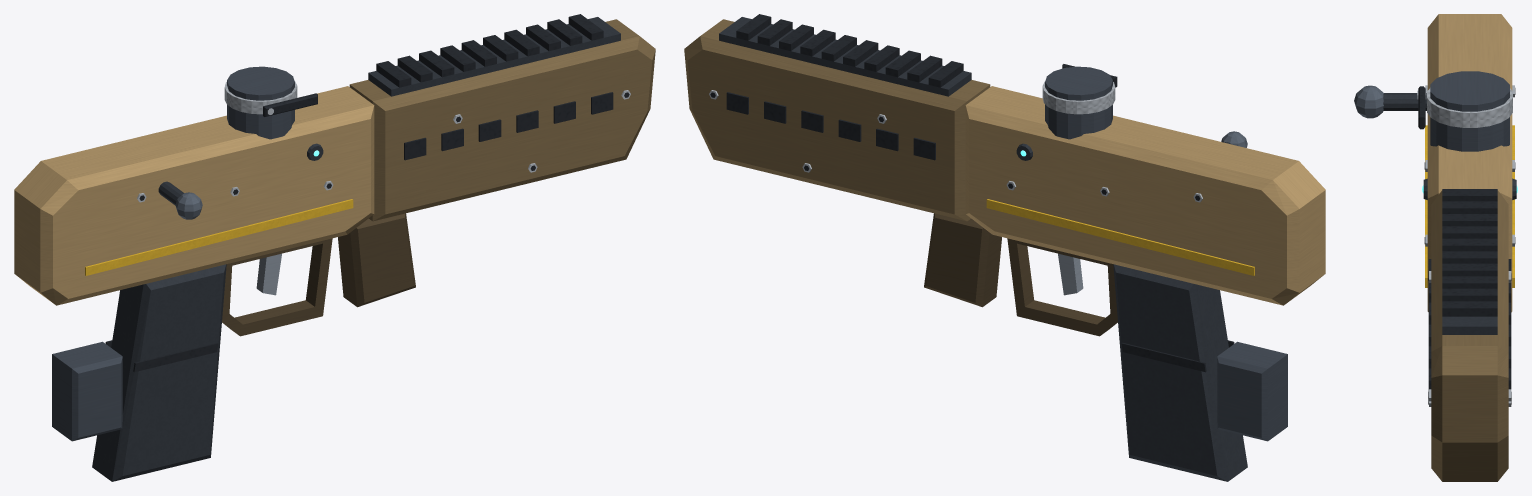
The model's file is sniper_v2.glb.
The picture shows the model from 3 angles, left to right: view 1: azimuth 30°, elevation 25°; view 2: azimuth 150°, elevation 25°; view 3: azimuth 270°, elevation 25°; orthographic projection. The views are drawn at different scales.
Parts seen in each view (by area): view 1: body; view 2: body; view 3: body.
Part boxes in pixels (bbox=[...]): body: bbox=[14, 14, 655, 481]; body: bbox=[684, 14, 1325, 481]; body: bbox=[1354, 14, 1517, 481].
Bounding box in the file's own units: 0.462 × 0.254 × 0.0888.
13 materials, 12 textured.
